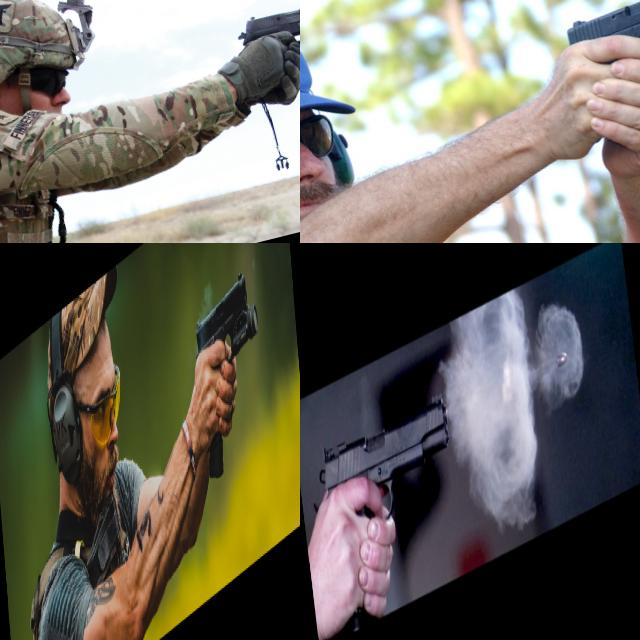handgun: (306, 378, 469, 640), (190, 256, 269, 494), (556, 0, 640, 100), (231, 0, 300, 83)
